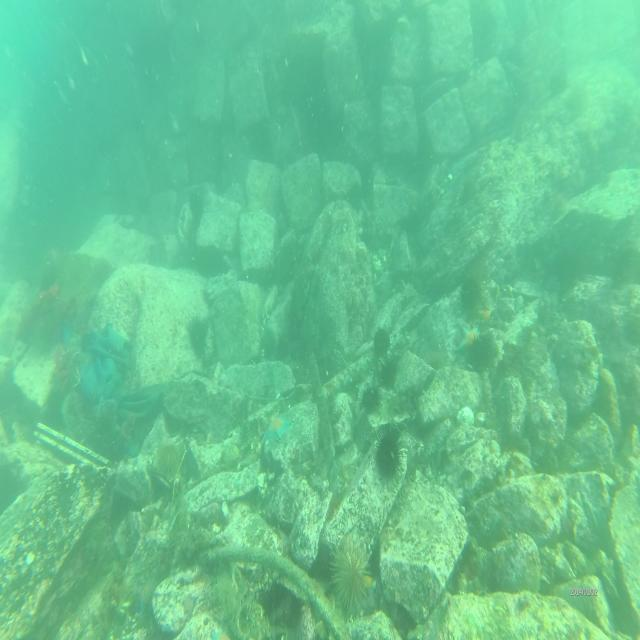echinus: (324, 538, 370, 610), (374, 432, 405, 481), (157, 441, 183, 479), (470, 333, 496, 370), (462, 271, 483, 308), (360, 380, 380, 416), (373, 324, 392, 356), (378, 359, 397, 387)
scallop: (456, 403, 477, 428)
starfish: (260, 412, 292, 445), (456, 322, 484, 354)
